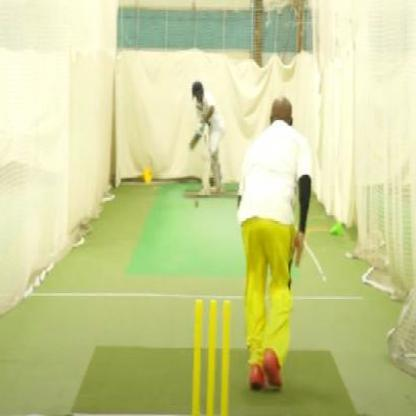ball: (192, 198, 201, 210)
